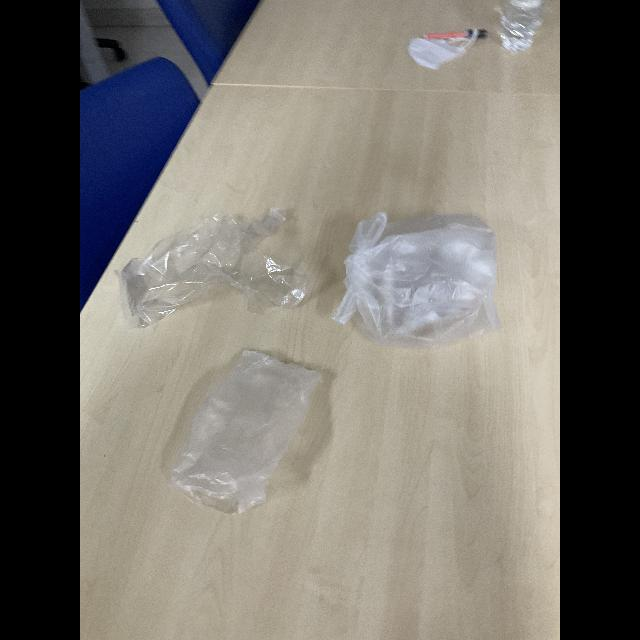plastic_bag: (324, 196, 520, 357)
scrap_plastic: (155, 342, 321, 518), (105, 210, 312, 332)
